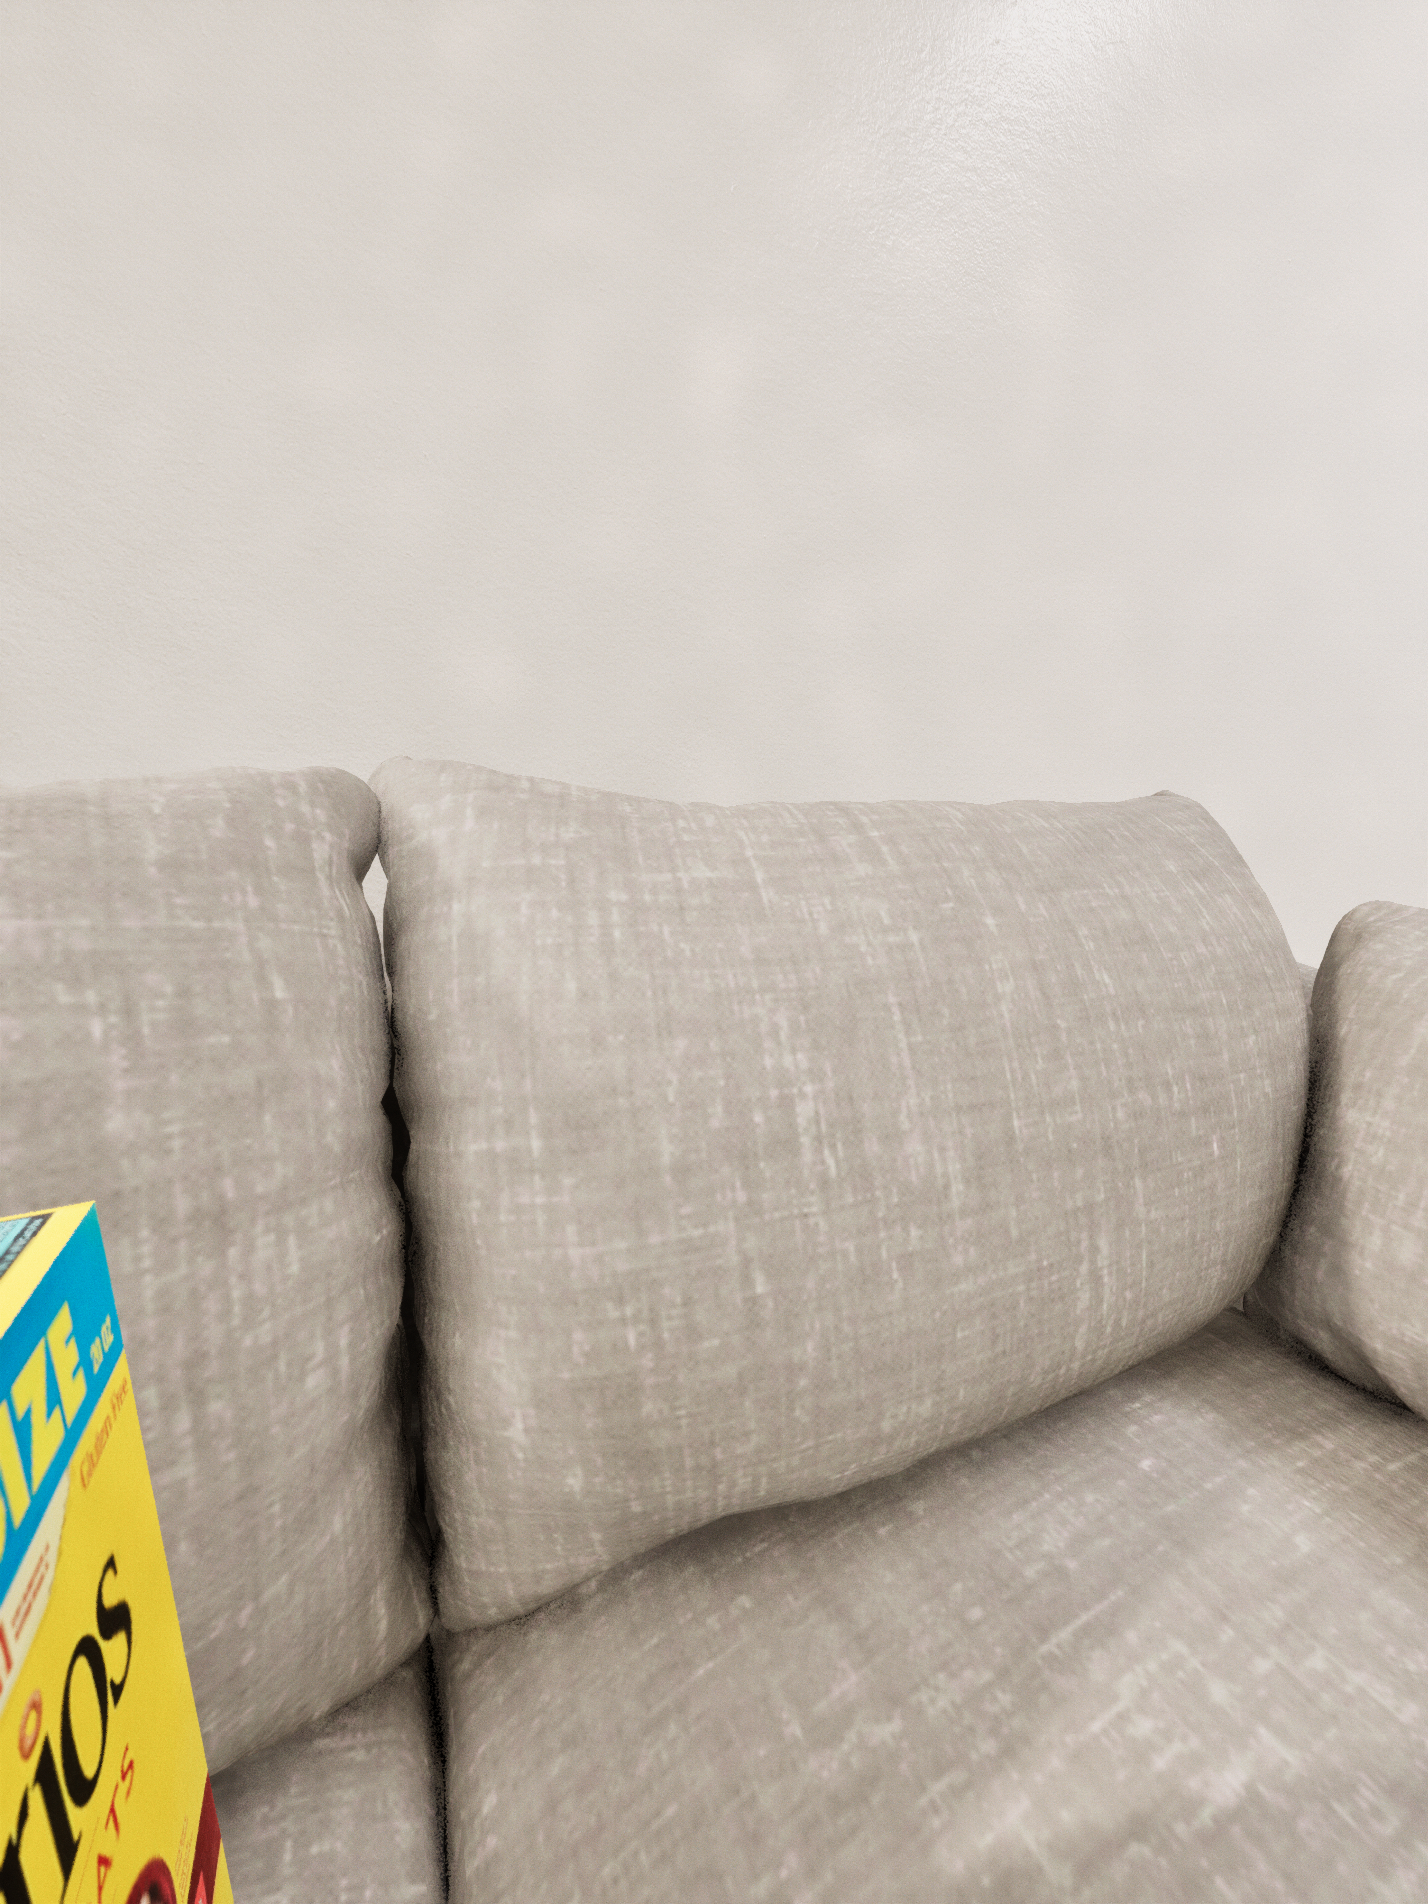cheerios: (0, 1201, 234, 1904)
